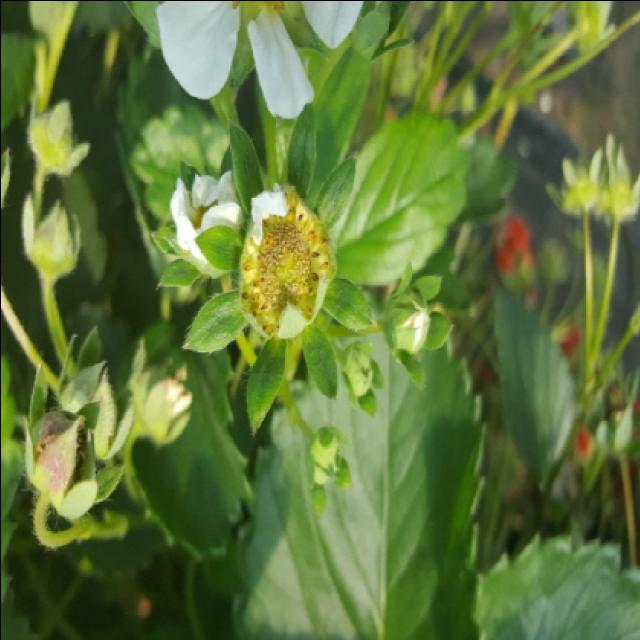Blossom Blight: (239, 188, 336, 335)
